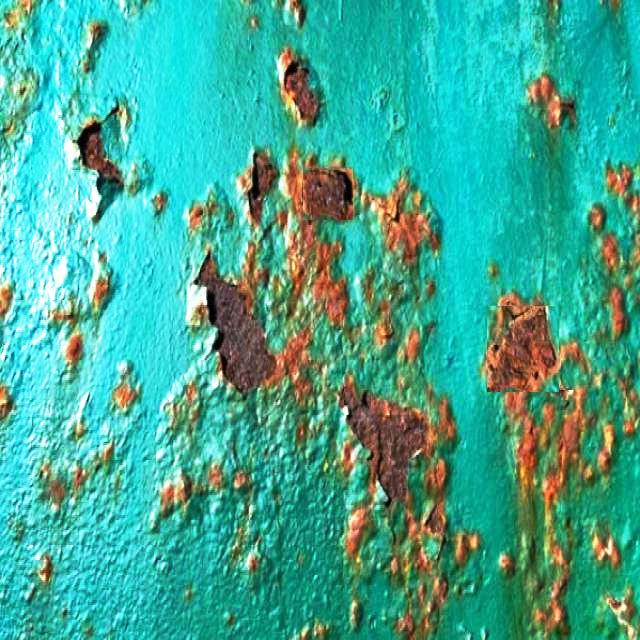Corrosion: (244, 151, 457, 640), (505, 332, 639, 640), (149, 351, 246, 532), (340, 377, 435, 502), (195, 252, 275, 392), (589, 165, 640, 344), (487, 305, 560, 392), (278, 47, 320, 126), (77, 121, 124, 186), (303, 168, 354, 220)
